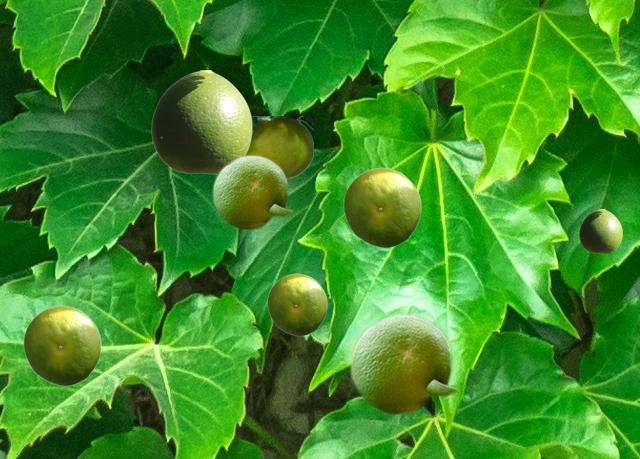dalandan: (348, 311, 459, 414), (151, 70, 251, 173), (211, 153, 293, 229), (23, 305, 100, 385), (343, 167, 420, 247), (247, 116, 312, 178), (267, 273, 326, 335), (579, 209, 621, 252)
